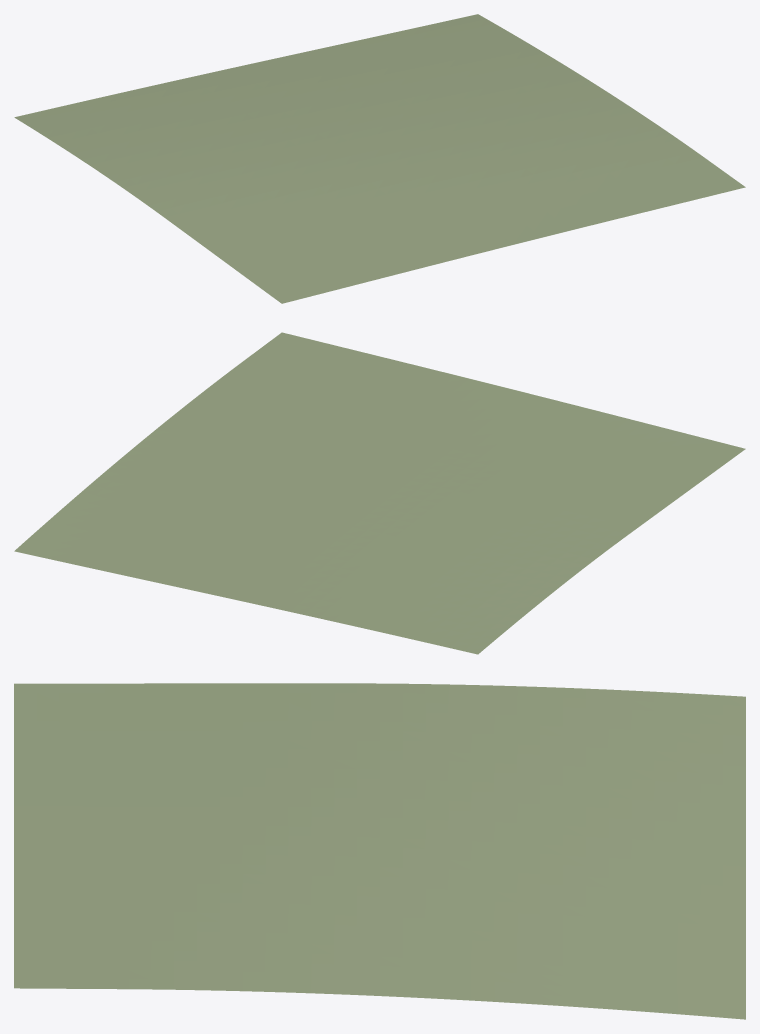
File: desert-4-27.glb
The picture shows the model from 3 angles, top to bottom: view 1: azimuth 30°, elevation 25°; view 2: azimuth 150°, elevation 25°; view 3: azimuth 270°, elevation 25°; orthographic projection. The views are drawn at different scales.
Parts seen in each view (by area): view 1: desert-4-27; view 2: desert-4-27; view 3: desert-4-27.
Part boxes in pixels (left/top/right/bottom): desert-4-27: left=14, top=14, right=745, bottom=303; desert-4-27: left=14, top=332, right=745, bottom=654; desert-4-27: left=14, top=683, right=745, bottom=1019.
Size of the model in its own units: 512 by 24.08 by 512.
